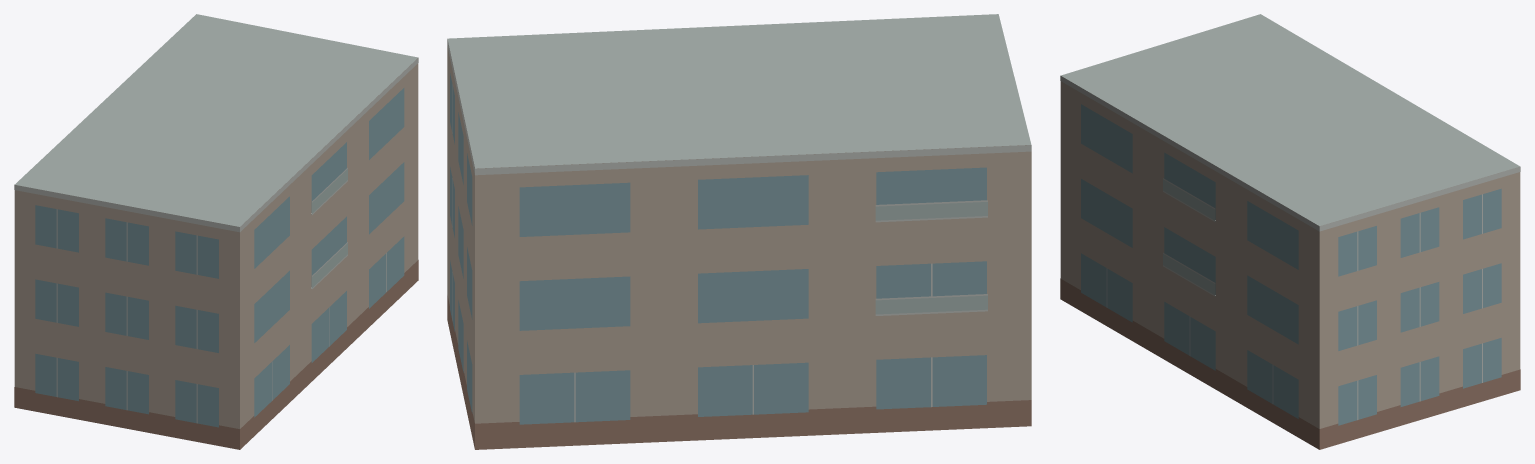
The model's file is survey-upis-33044130.glb.
3 views of the same model, side by side, from view 1: azimuth 30°, elevation 25°; view 2: azimuth 150°, elevation 25°; view 3: azimuth 270°, elevation 25° (orthographic). The views are drawn at different scales.
Parts seen in each view (by area): view 1: survey-upis-33044130.tmp; view 2: survey-upis-33044130.tmp; view 3: survey-upis-33044130.tmp.
Part boxes in pixels (x1,y1,x2,y2): survey-upis-33044130.tmp: (14,14,418,449); survey-upis-33044130.tmp: (447,14,1031,449); survey-upis-33044130.tmp: (1060,14,1520,449).
Size of the model in its own units: 20.76 by 10.2 by 19.01.
